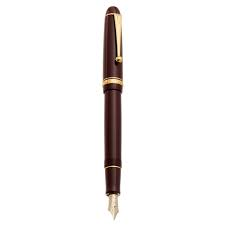pen: (101, 6, 123, 218)
